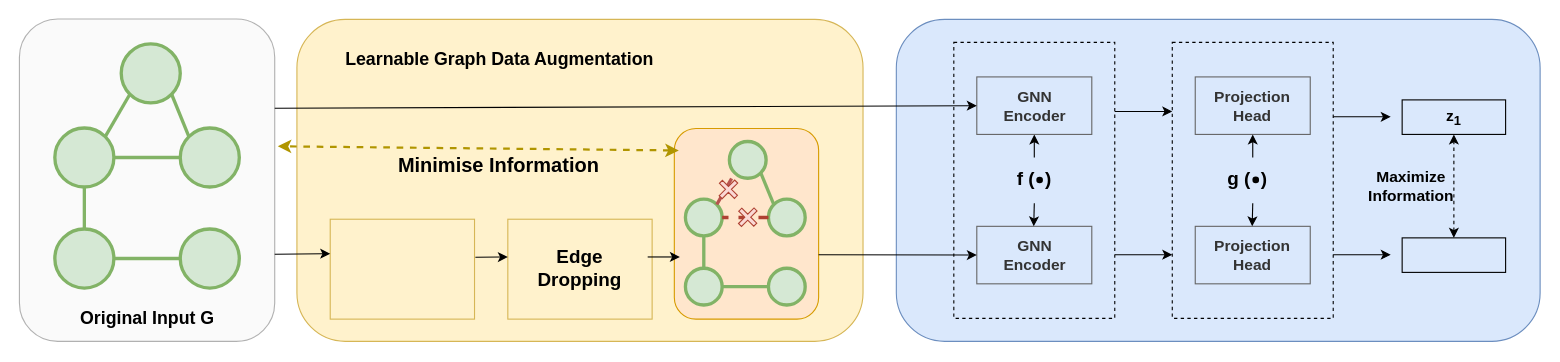
The diagram is 1560 pixels wide and 362 high, and some of its shapes have lost their labels. Each missing label, with the box of its shape:
GNN Augmenter: (329, 218, 475, 319)
z 2: (1401, 237, 1506, 272)
